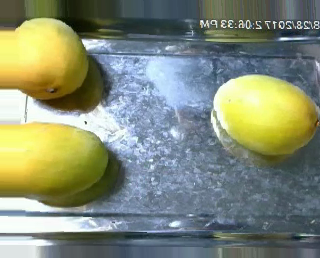Mango: (213, 71, 319, 157), (15, 15, 95, 100), (22, 122, 108, 197)
